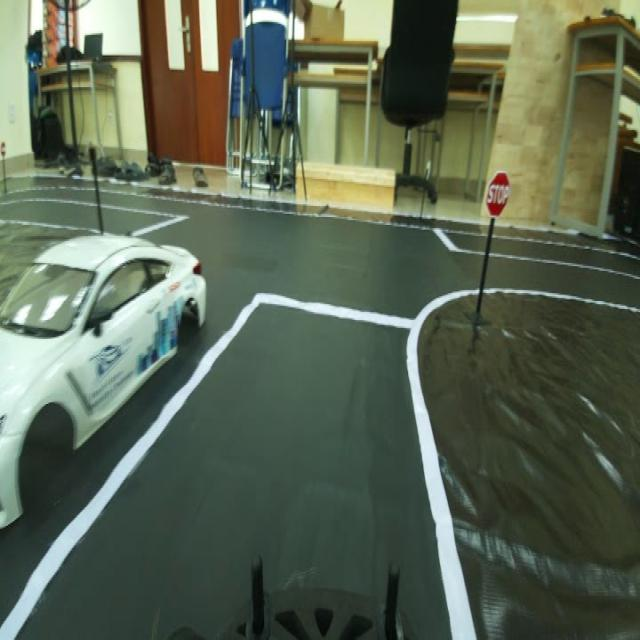car: (4, 195, 208, 546)
stop: (478, 162, 518, 224)
